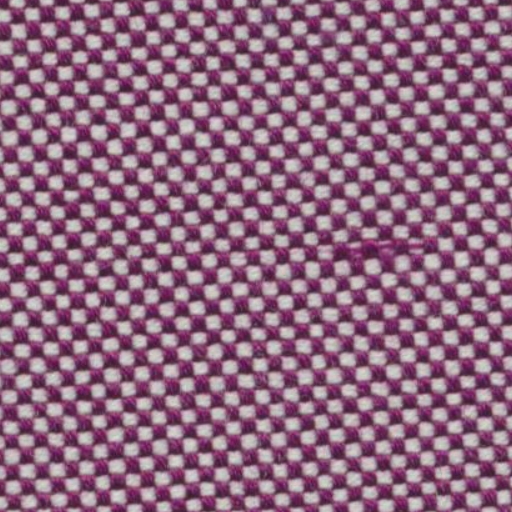DuanSha: (325, 227, 442, 276)
